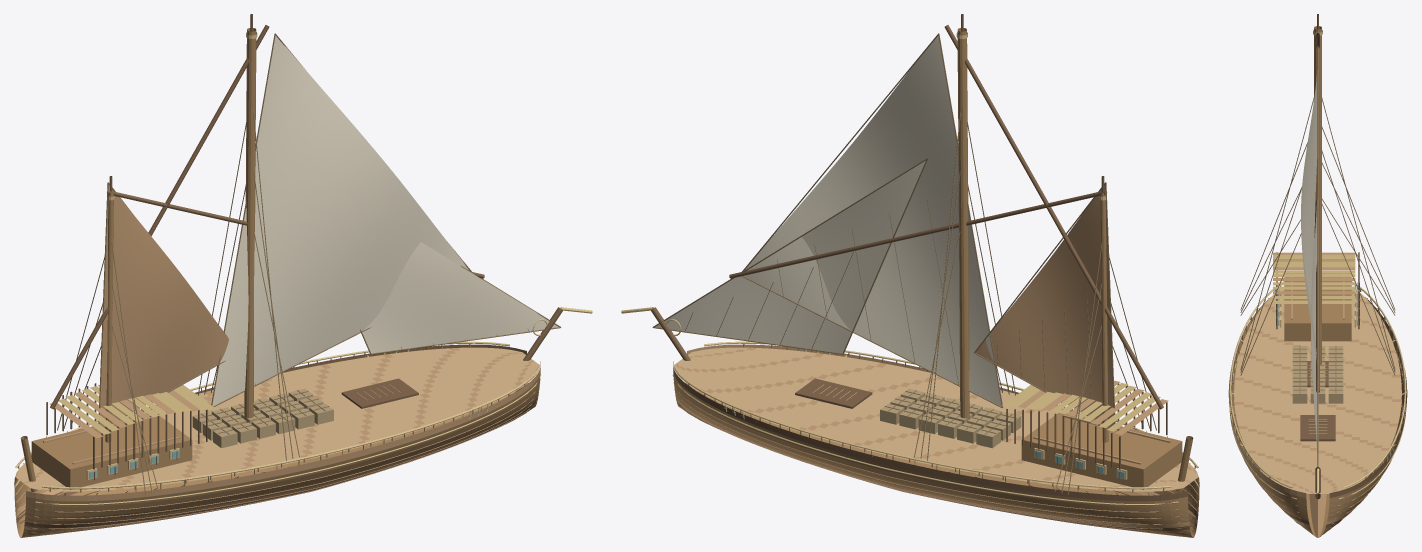
The model's file is zanzibar_jahazi-custom.glb.
3 renders of one model, left to right at view 1: azimuth 30°, elevation 25°; view 2: azimuth 150°, elevation 25°; view 3: azimuth 270°, elevation 25°, orthographic. The views are drawn at different scales.
Visible parts, largest first — view 1: zanzibar_jahazi; view 2: zanzibar_jahazi; view 3: zanzibar_jahazi.
Part boxes in pixels (x1=…): zanzibar_jahazi: x1=14, y1=14, x2=592, y2=537; zanzibar_jahazi: x1=621, y1=14, x2=1199, y2=537; zanzibar_jahazi: x1=1228, y1=14, x2=1407, y2=537.
Bounding box in the file's own units: 60.96 × 48.25 × 18.9.
